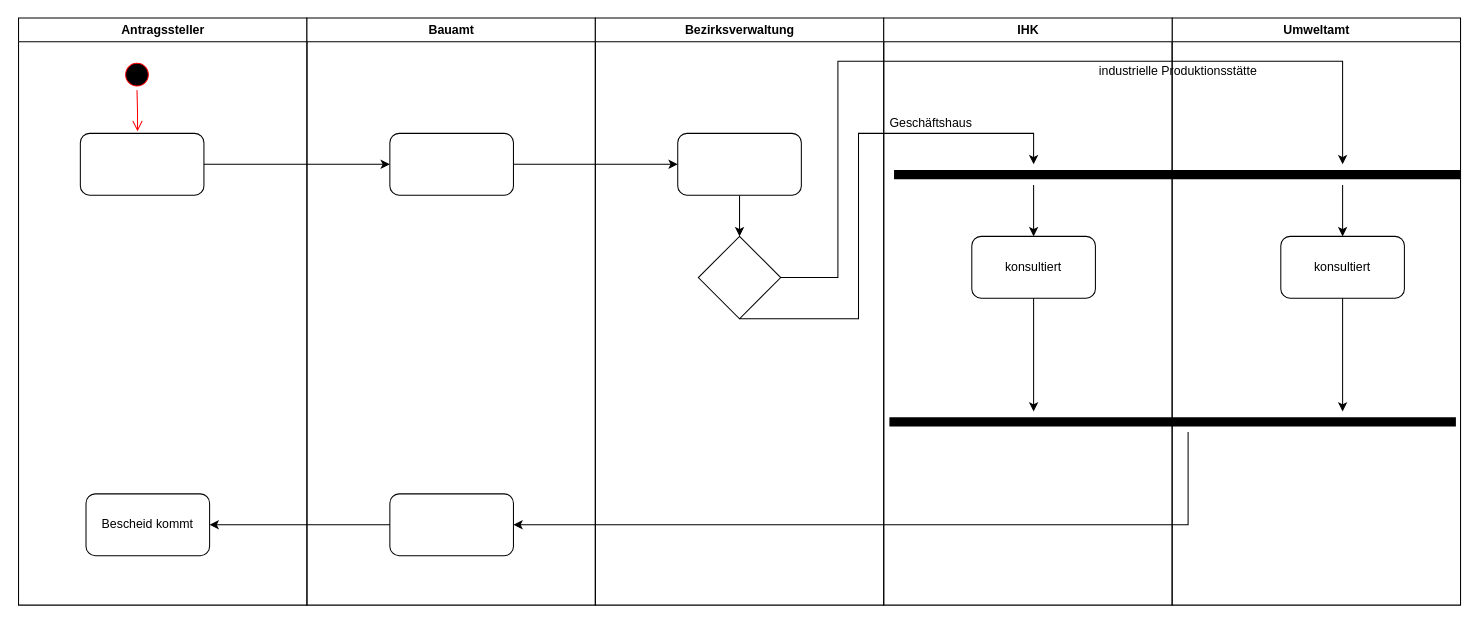
Some shapes in this 1483 by 623 pixel diagram are drawn without their labels. The shapes that lost their labels are listed below. From the top down, each one's centre as x and y in pixels, then its label:
the point at 141,163: Reicht Bauantrag ein
the point at 451,163: Prüfung des Antrags
the point at 739,163: Antrag an die zuständige Verwaltung
the point at 451,524: Beurteilung des Antrags kommt an
